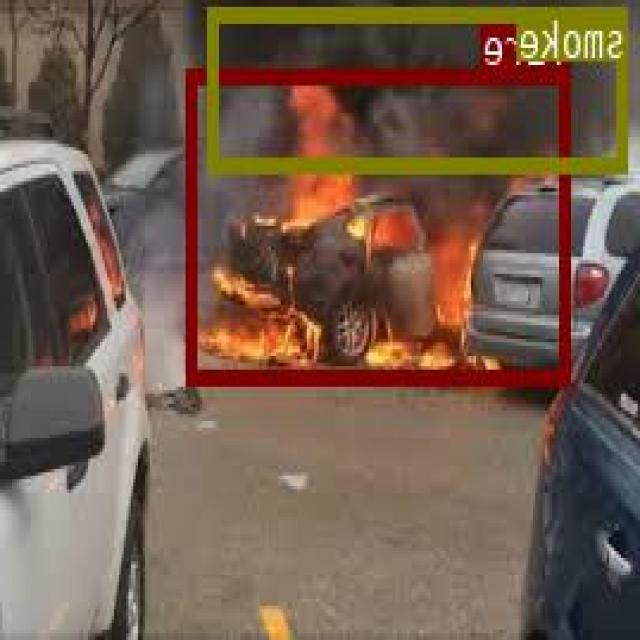fire: (188, 66, 572, 382)
smoke: (212, 4, 630, 170)
